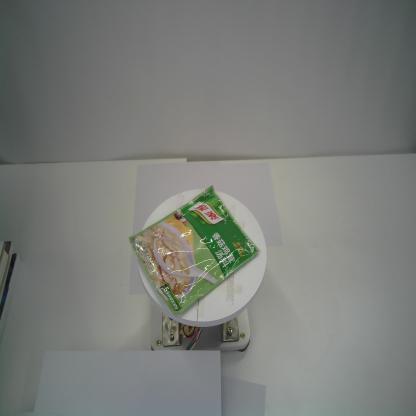Seasoner: (128, 185, 260, 314)
